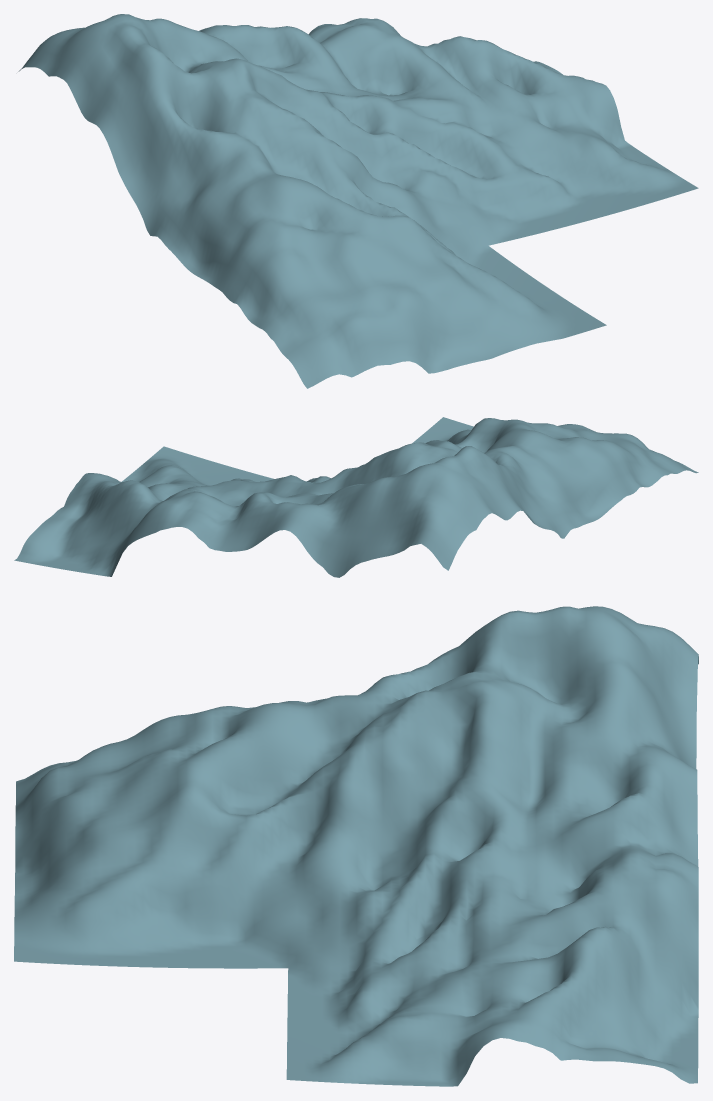
The model's file is env_front_end_map_mountains.fbx.
3 renders of one model, top to bottom at view 1: azimuth 30°, elevation 25°; view 2: azimuth 150°, elevation 25°; view 3: azimuth 270°, elevation 25°, orthographic. The views are drawn at different scales.
Parts seen in each view (by area): view 1: pPlane3; view 2: pPlane3; view 3: pPlane3.
Boxes of the visible parts, x1,y1,x2,y2 form: pPlane3: (18,14,698,388); pPlane3: (14,417,698,577); pPlane3: (14,606,698,1086).
Size of the model in its own units: 1210 by 434 by 1210.
